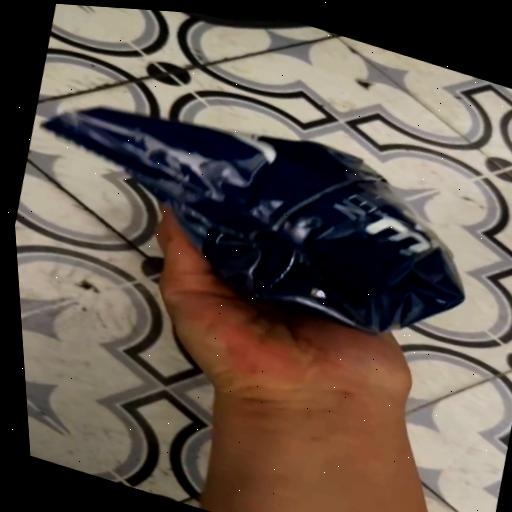cafe_hat: (43, 108, 464, 334)
